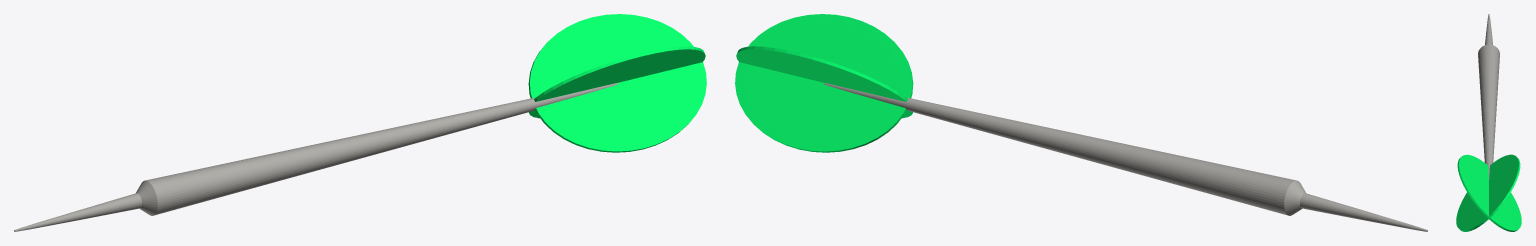
File: dart.obj
3 views of the same model, side by side, from view 1: azimuth 30°, elevation 25°; view 2: azimuth 150°, elevation 25°; view 3: azimuth 270°, elevation 25° (orthographic). The views are drawn at different scales.
Parts seen in each view (by area): view 1: Object.2, Object.1, Object.3; view 2: Object.3, Object.1, Object.2; view 3: Object.1, Object.2, Object.3.
Boxes of the visible parts, x1,y1,x2,y2 form: Object.2: (528, 14, 706, 152); Object.1: (14, 83, 617, 231); Object.3: (529, 46, 705, 118); Object.3: (735, 14, 913, 152); Object.1: (824, 83, 1427, 231); Object.2: (736, 46, 912, 118); Object.1: (1478, 14, 1499, 179); Object.2: (1456, 154, 1520, 231); Object.3: (1457, 154, 1521, 231).
Size of the model in its own units: 76.95 by 10.22 by 10.44.
2 materials, 2 textured.
